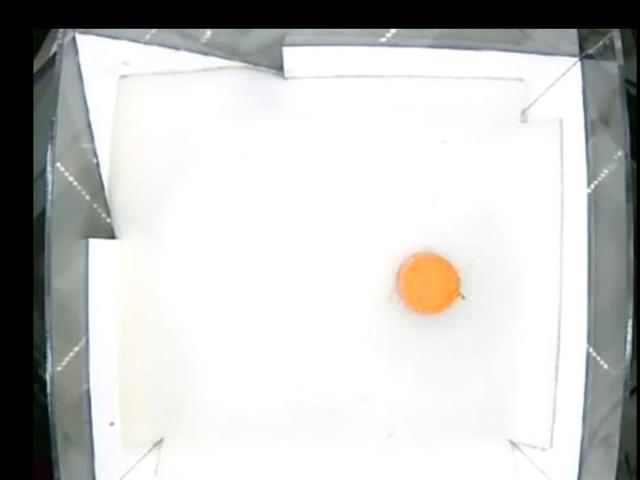Carrot: (396, 249, 460, 319)
